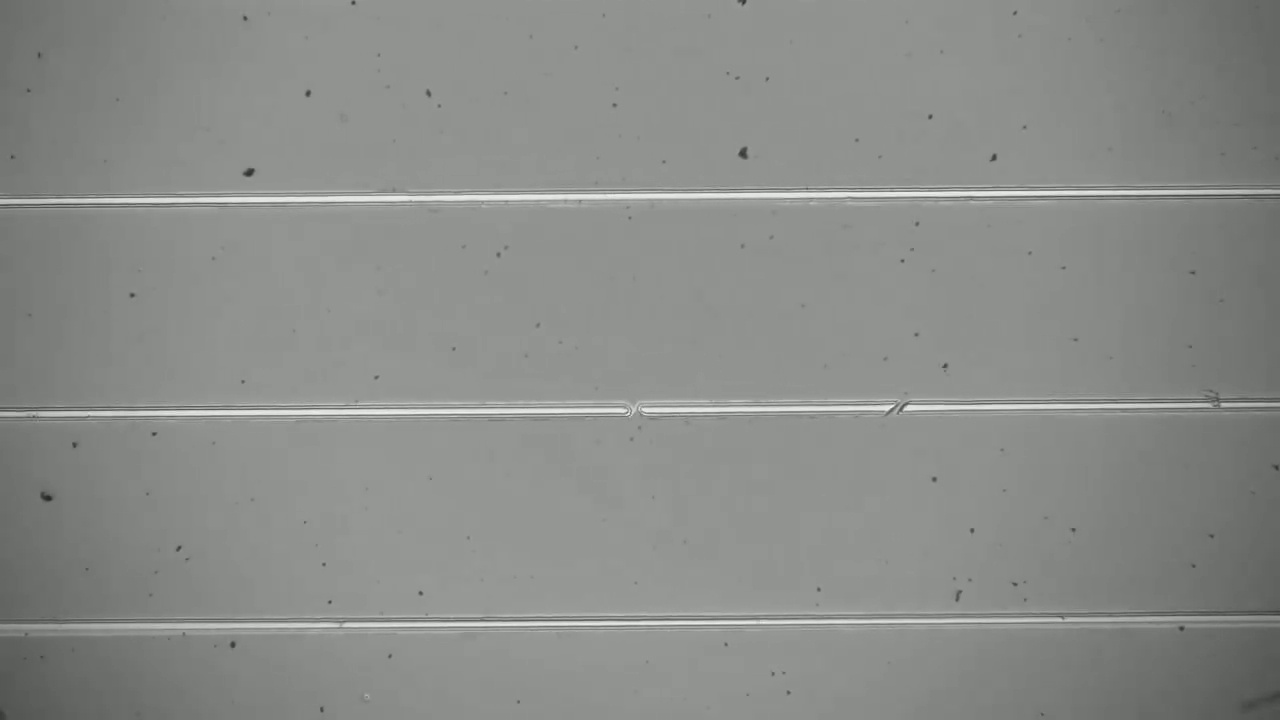open: (611, 388, 661, 430), (877, 391, 914, 428)
stains_enbedded: (1191, 379, 1237, 424)
